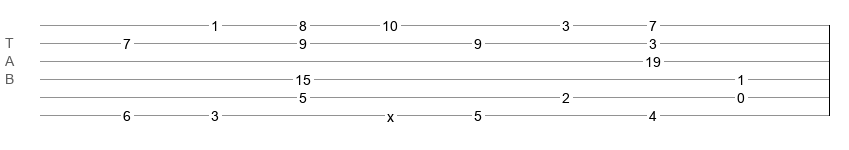0: (737, 90, 745, 100)
1: (211, 18, 219, 28), (737, 72, 745, 82)
10: (382, 18, 398, 28)
15: (295, 72, 311, 82)
19: (645, 54, 661, 64)
2: (562, 90, 570, 100)
3: (211, 108, 219, 118), (562, 18, 570, 28), (649, 36, 657, 46)
4: (649, 108, 657, 118)
5: (299, 90, 307, 100), (474, 108, 482, 118)
6: (123, 108, 131, 118)
7: (123, 36, 131, 46), (649, 18, 657, 28)
8: (299, 18, 307, 28)
9: (299, 36, 307, 46), (474, 36, 482, 46)
x: (387, 109, 394, 117)
